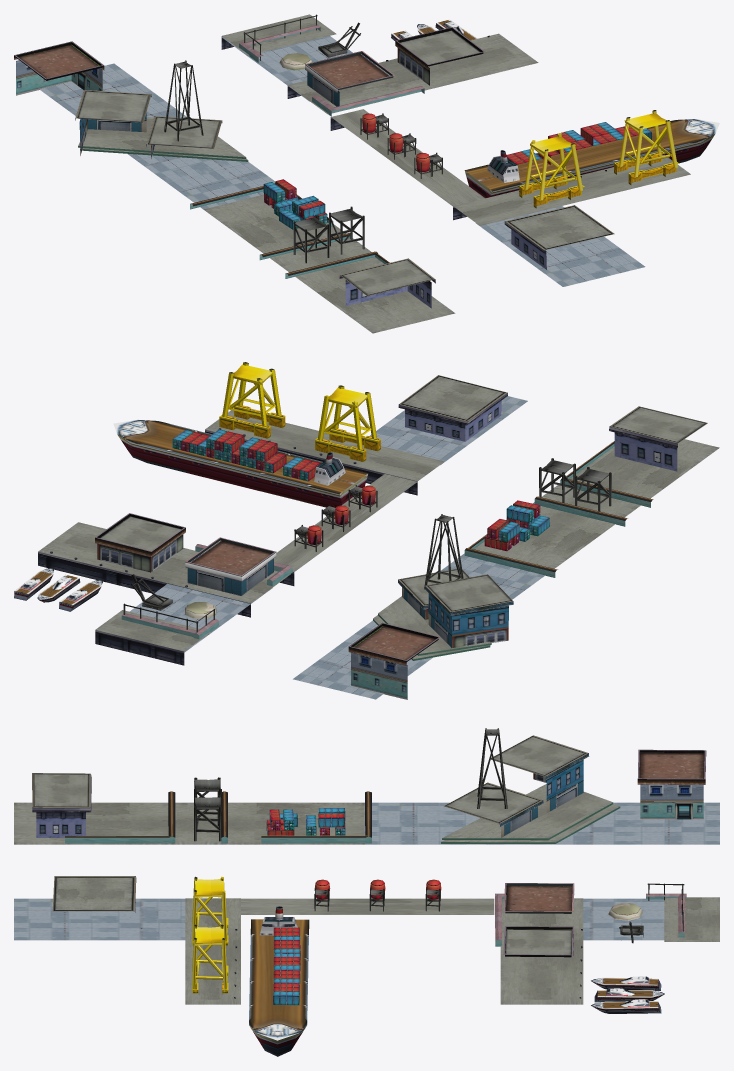
File: ny_port2.fbx
3 renders of one model, top to bottom at view 1: azimuth 30°, elevation 25°; view 2: azimuth 150°, elevation 25°; view 3: azimuth 270°, elevation 25°, orthographic. The views are drawn at different scales.
Parts seen in each view (by area): view 1: port2, port_props2; view 2: port2, port_props2; view 3: port2, port_props2.
Part boxes in pixels (box(x1,y1,x2,y2)): port2: box(14, 14, 719, 333); port_props2: box(164, 14, 678, 263); port2: box(14, 375, 719, 699); port_props2: box(123, 362, 611, 632); port2: box(14, 735, 719, 1056); port_props2: box(191, 728, 684, 1005).
Bounding box in the file's own units: 8808 × 1787 × 10000.
